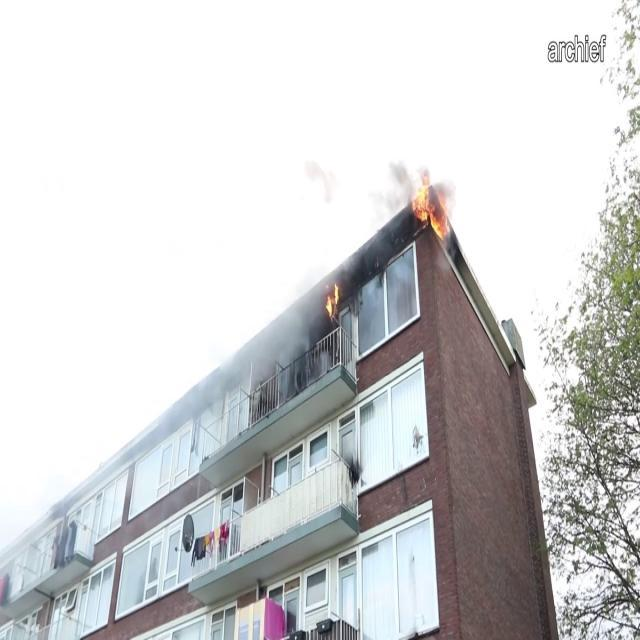Fire: (413, 172, 448, 240), (320, 274, 342, 322)
Smoke: (268, 258, 326, 382)
